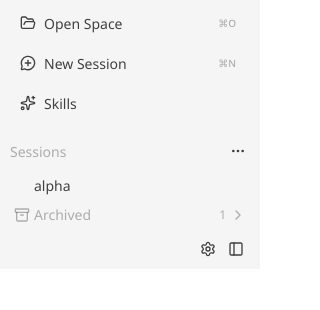
it: SpacesList (archive, ADR 0016) › the Archived section is collapsed by default and lists archived sessions
The image size is (320, 310).
Expected: the text "1" is shown, left=219, top=206, right=226, bottom=224
Expected: the text "Archive the logs" is not shown
# Expanding the section (clicking the header) reveals the row.
Step 1. Click the text "Archived" → (63, 214), box left=34, top=205, right=91, bottom=224
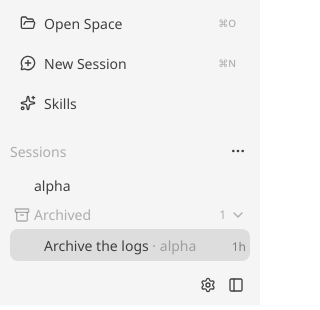
Expected: the text "Archive the logs · alpha" is shown, left=44, top=236, right=196, bottom=254
